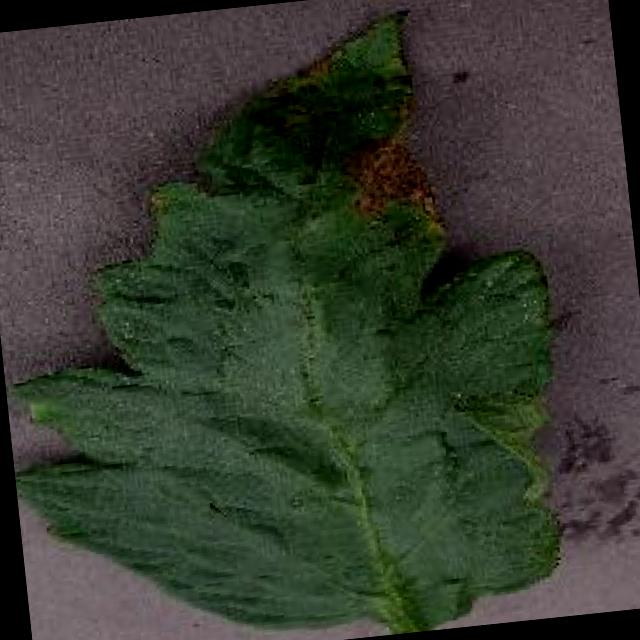bacterial spot: (6, 8, 564, 634)
